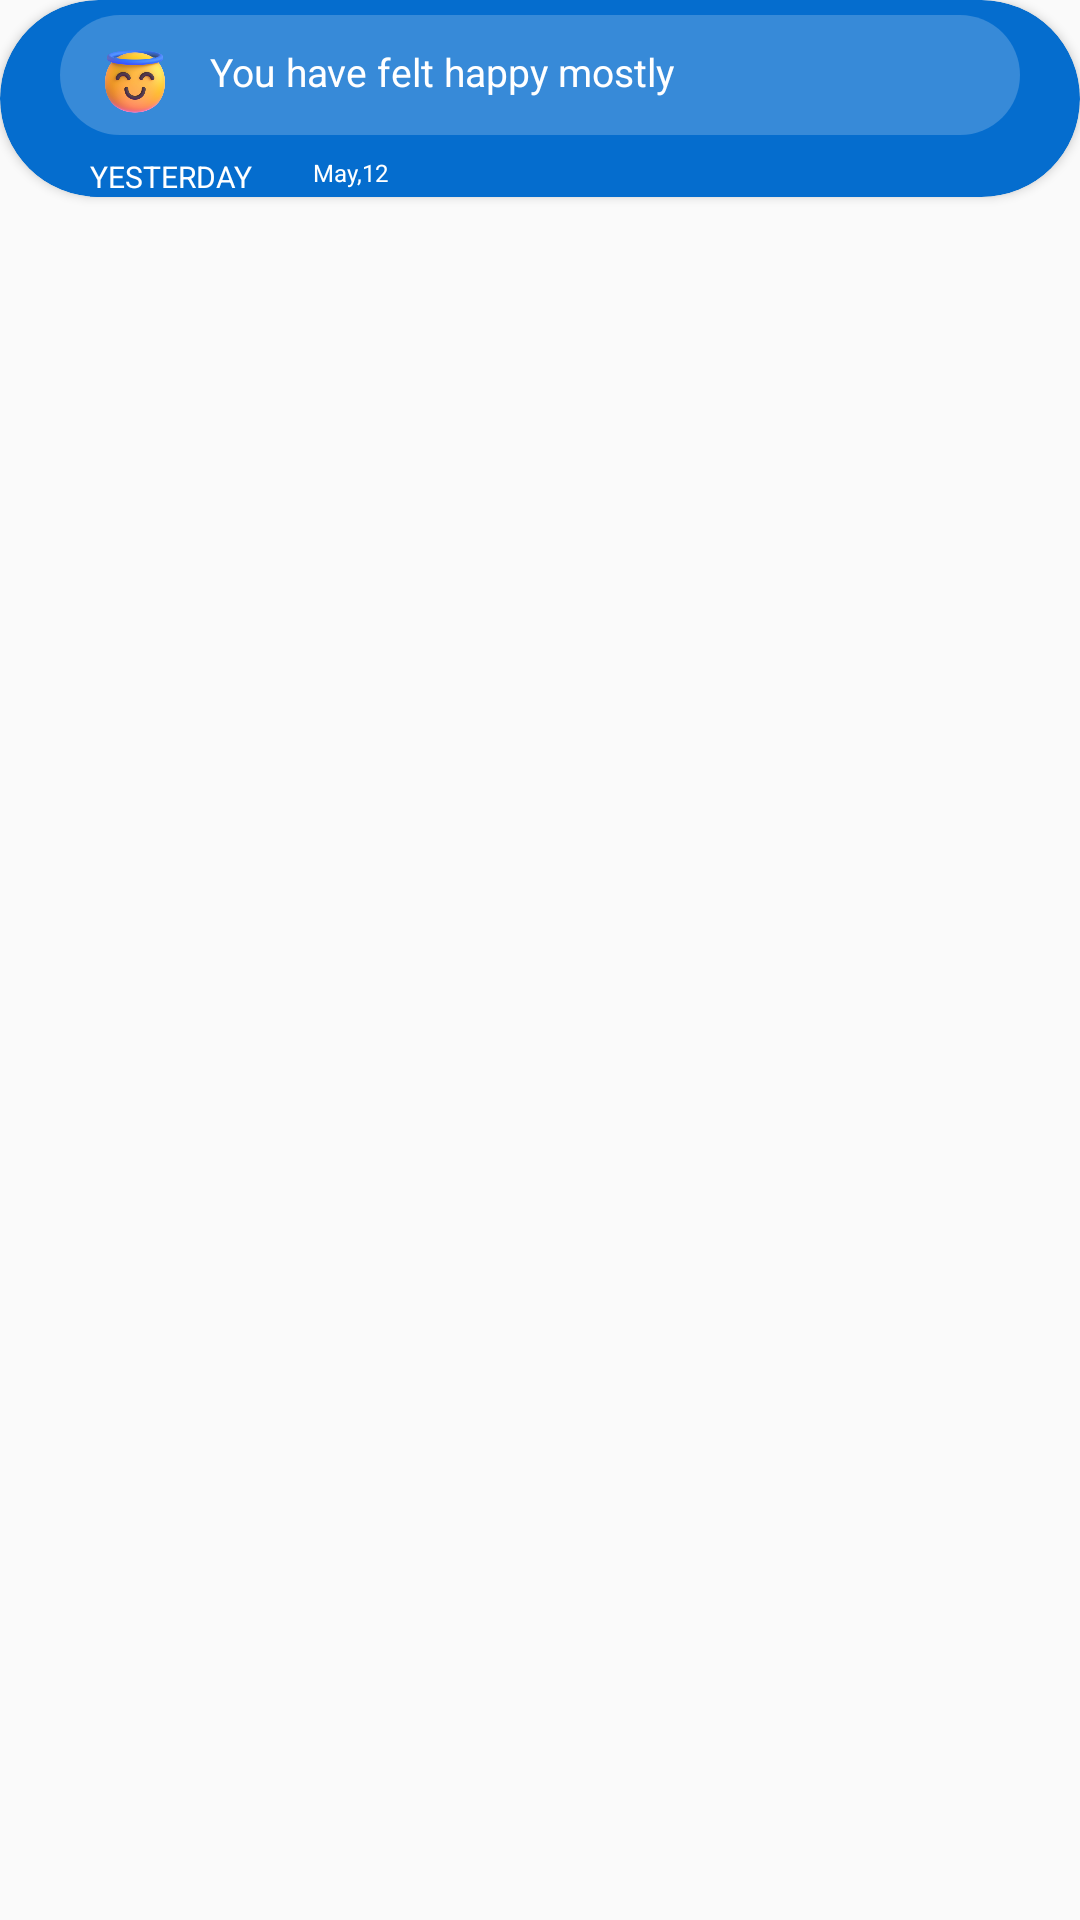

Screen size 1080 x 1920. Icon name, then its box in pixels as (x1=x1, y1=y1, x2=x2, y2=y2):
happy emoji: (x1=60, y1=15, x2=210, y2=135)
